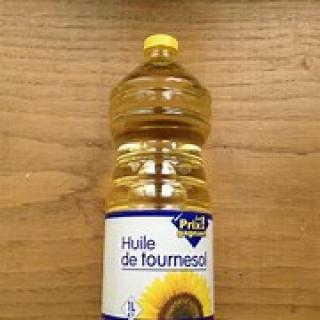Plastic-bottle: (101, 31, 220, 320)
